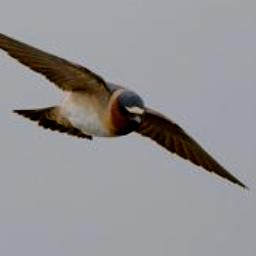Swallow: (0, 9, 250, 187)
